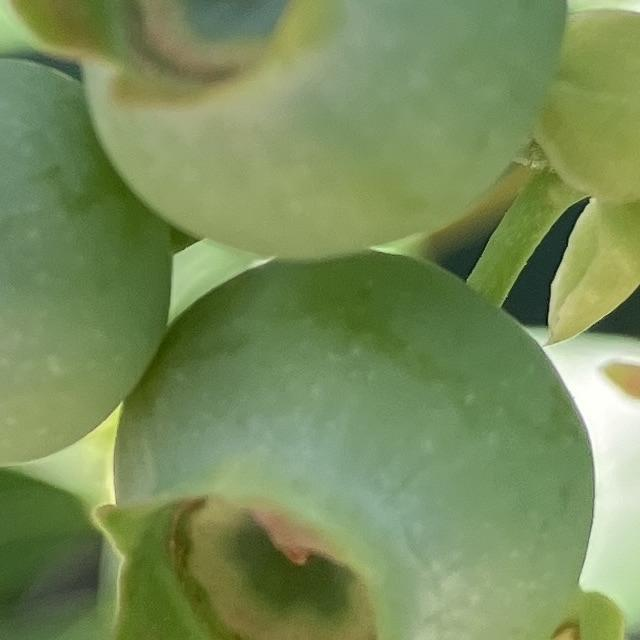Blueberries: (84, 264, 605, 640), (9, 0, 575, 263), (0, 54, 175, 477)
